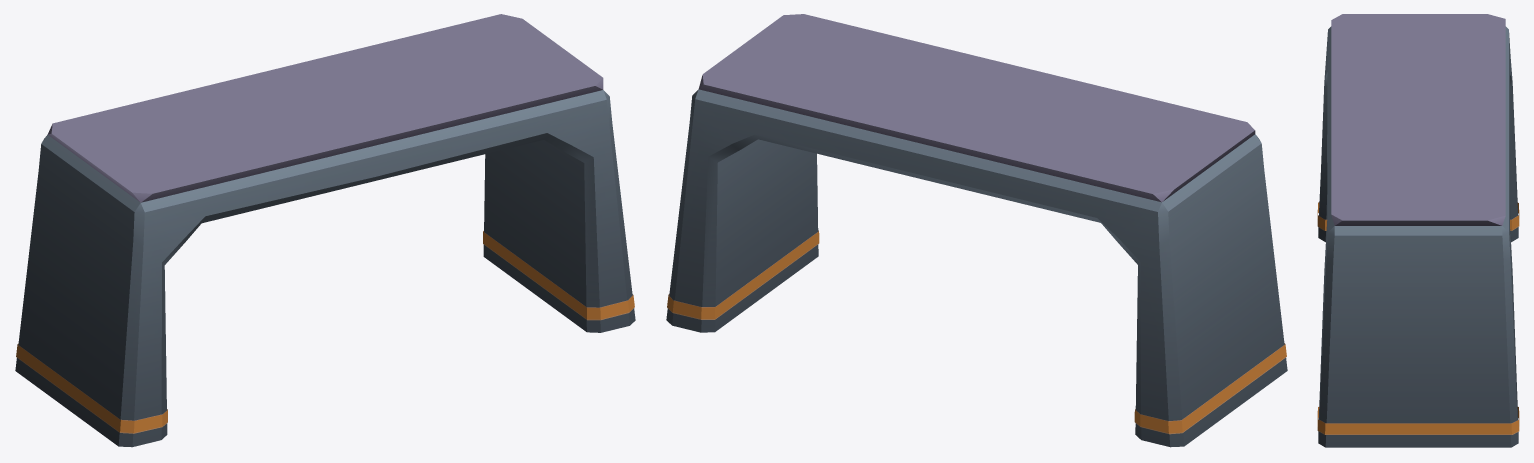
File: MODEL_Bench.fbx
3 renders of one model, left to right at view 1: azimuth 30°, elevation 25°; view 2: azimuth 150°, elevation 25°; view 3: azimuth 270°, elevation 25°, orthographic. The views are drawn at different scales.
Parts seen in each view (by area): view 1: BenchBase; view 2: BenchBase; view 3: BenchBase.
Boxes of the visible parts, x1,y1,x2,y2 form: BenchBase: [15, 14, 635, 447]; BenchBase: [666, 14, 1287, 447]; BenchBase: [1317, 14, 1519, 447].
Bounding box in the file's own units: 162 × 72.34 × 60.98.
